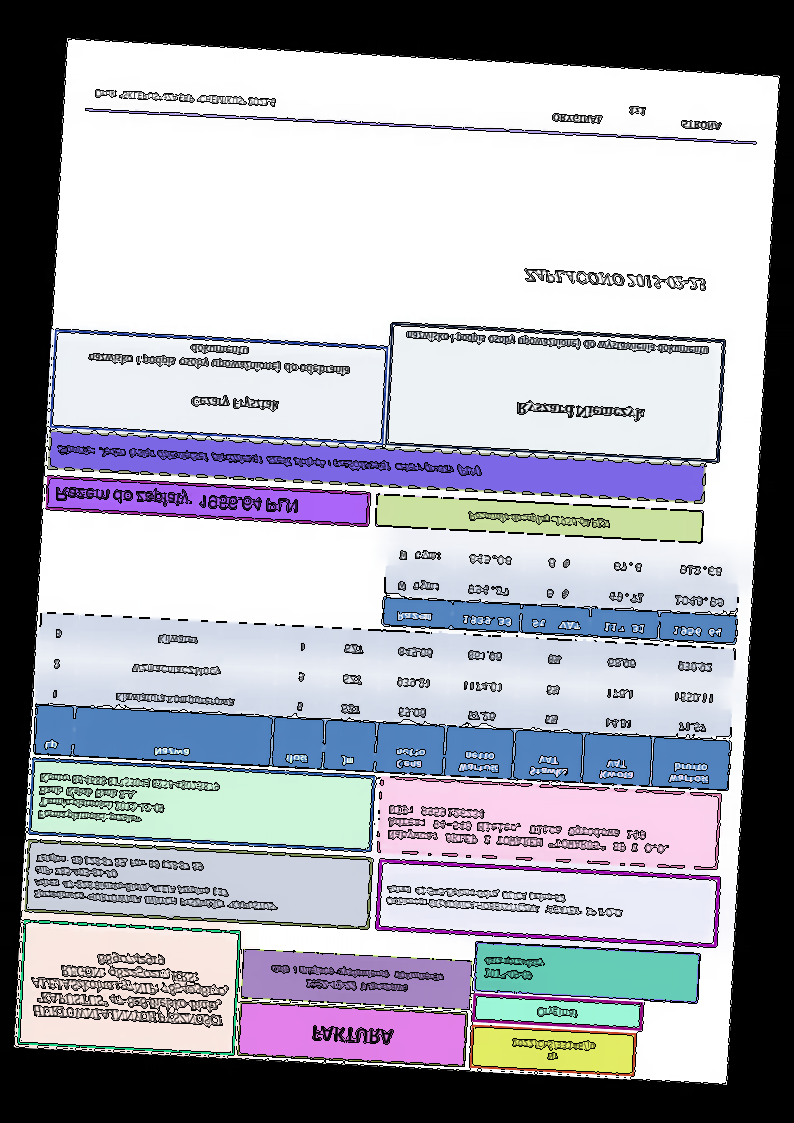Table: (32, 611, 737, 793), (381, 534, 743, 645)
TextBox: (27, 946, 233, 1029), (56, 441, 483, 479), (31, 850, 282, 913), (385, 803, 674, 857), (36, 771, 222, 831), (85, 338, 353, 378), (404, 327, 710, 358), (383, 883, 626, 922), (53, 482, 300, 516), (269, 962, 446, 997), (549, 100, 724, 133), (522, 267, 708, 293), (93, 86, 278, 109), (515, 400, 646, 424), (466, 510, 613, 531), (510, 1035, 597, 1064), (310, 1022, 395, 1048), (481, 954, 546, 983), (191, 393, 280, 413), (535, 1005, 579, 1021)
